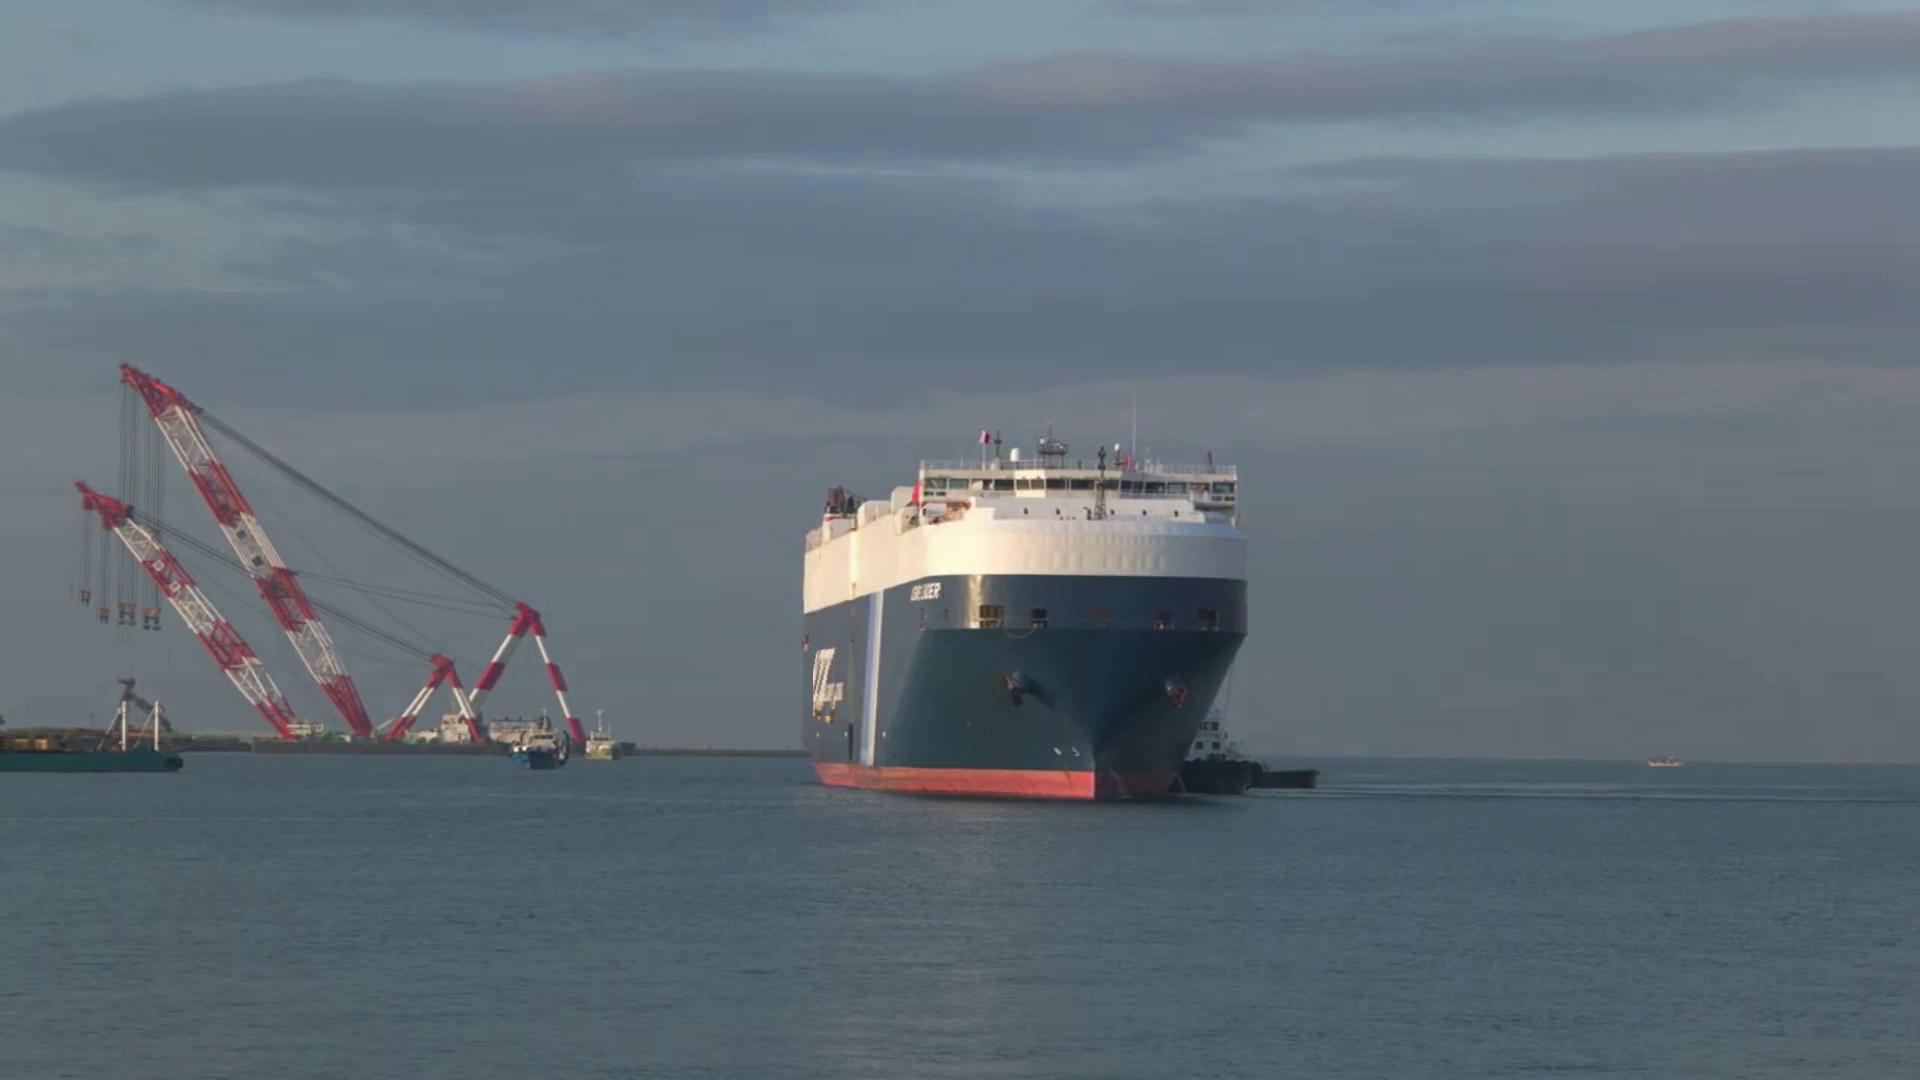OCR: (813, 640, 845, 716), (909, 579, 944, 607)
